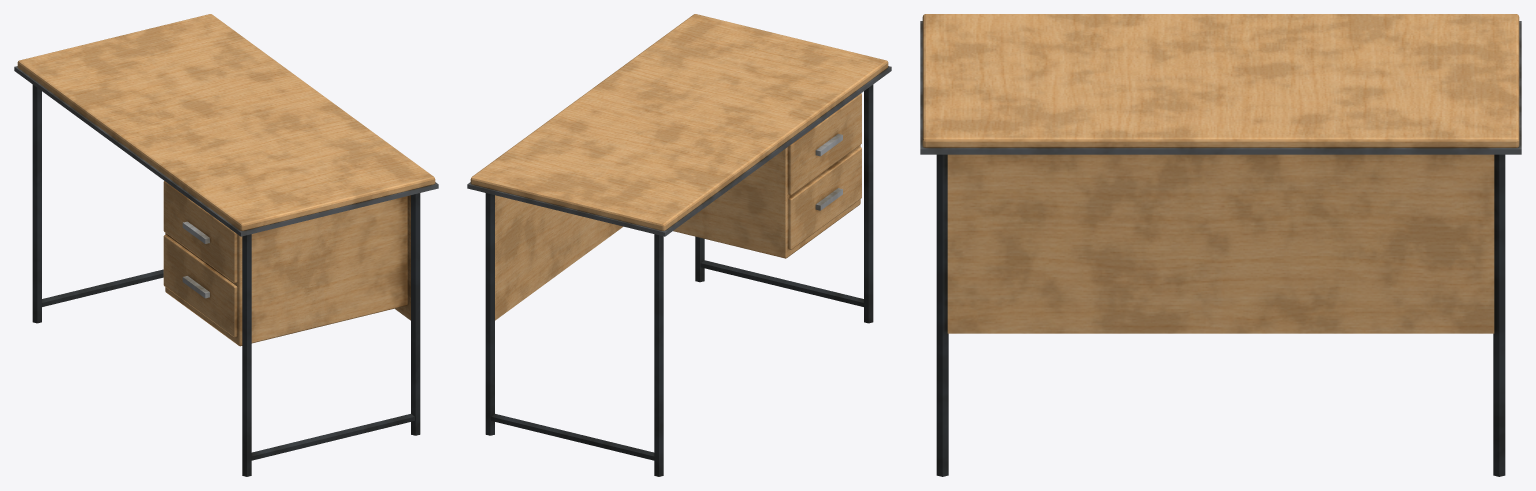
The model's file is mesa_professor_sujo_realista.glb.
3 views of the same model, side by side, from view 1: azimuth 30°, elevation 25°; view 2: azimuth 150°, elevation 25°; view 3: azimuth 270°, elevation 25° (orthographic). The views are drawn at different scales.
Visible parts, largest first — view 1: Mesa_Professor_PBR; view 2: Mesa_Professor_PBR; view 3: Mesa_Professor_PBR.
Boxes of the visible parts, left/top/right/bottom form: Mesa_Professor_PBR: left=14, top=14, right=438, bottom=476; Mesa_Professor_PBR: left=467, top=14, right=891, bottom=476; Mesa_Professor_PBR: left=920, top=14, right=1521, bottom=476.
Bounding box in the file's own units: 0.61 × 0.7625 × 1.21.
Materials: 1 (1 with a texture image).
